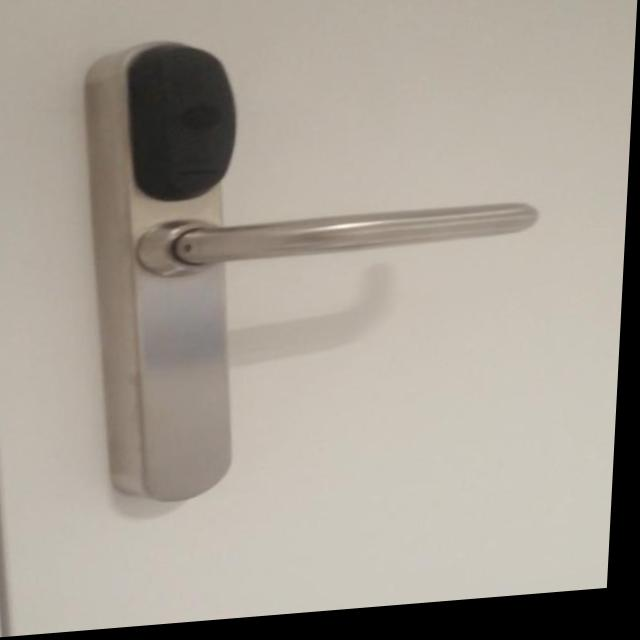door_handle: (117, 187, 560, 289)
